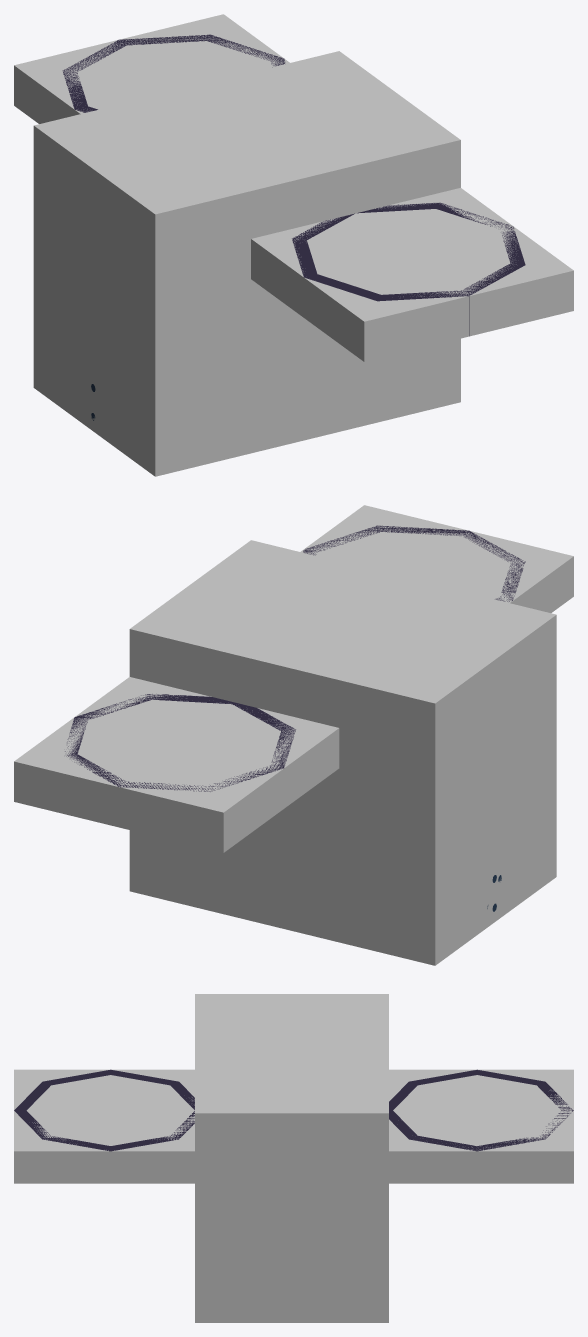
Rendered from SM_Drone_06.fbx.
3 views of the same model, one above another, from view 1: azimuth 30°, elevation 25°; view 2: azimuth 150°, elevation 25°; view 3: azimuth 270°, elevation 25° (orthographic). The views are drawn at different scales.
Parts seen in each view (by area): view 1: SM_Drone_06_ConvexHulls, SM_Drone_06; view 2: SM_Drone_06_ConvexHulls, SM_Drone_06; view 3: SM_Drone_06_ConvexHulls, SM_Drone_06.
Boxes of the visible parts, x1=… form: SM_Drone_06_ConvexHulls: x1=14, y1=14, x2=573, y2=476; SM_Drone_06: x1=62, y1=34, x2=525, y2=420; SM_Drone_06_ConvexHulls: x1=14, y1=505, x2=573, y2=965; SM_Drone_06: x1=65, y1=525, x2=525, y2=911; SM_Drone_06_ConvexHulls: x1=14, y1=994, x2=573, y2=1322; SM_Drone_06: x1=14, y1=1069, x2=573, y2=1151.
Bounding box in the file's own units: 227 × 450 × 186.
